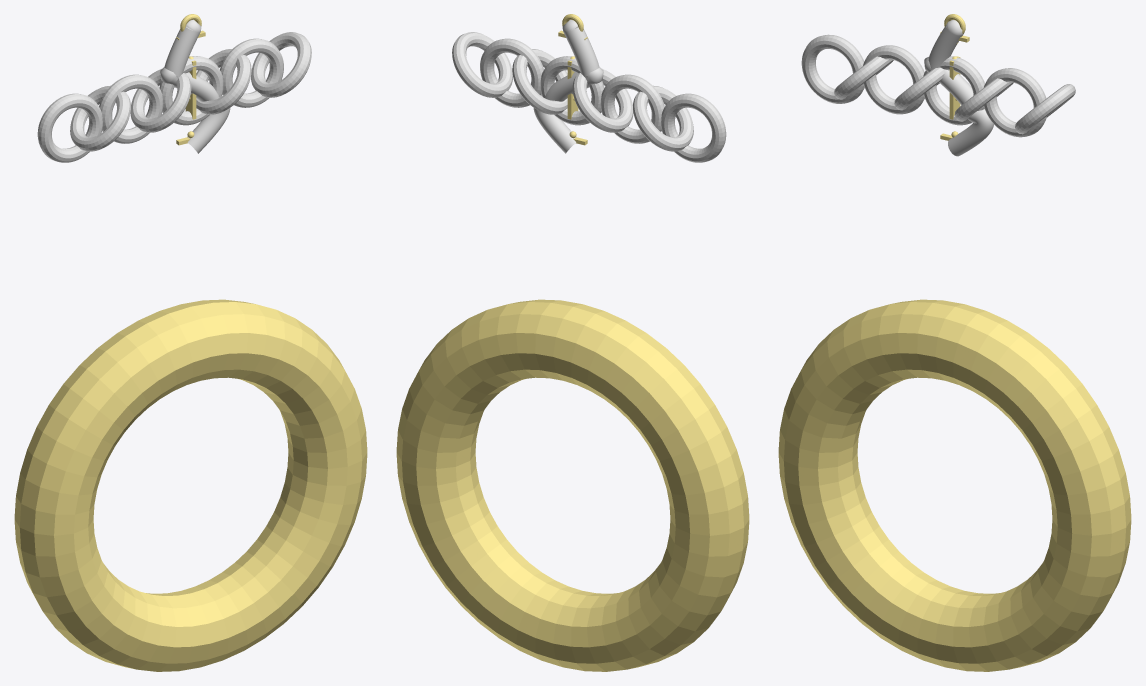
Rendered from ring_export.glb.
3 views of the same model, side by side, from view 1: azimuth 30°, elevation 25°; view 2: azimuth 150°, elevation 25°; view 3: azimuth 330°, elevation 25° (orthographic).
Visible parts, largest first — view 1: GoldRing, DollarSign_S, CurbChainLink_00, CurbChainLink_07, CurbChainLink_02, CurbChainLink_06, CurbChainLink_01, CurbChainLink_03, CurbChainLink_05, CurbChainLink_04, DollarSignPendant; view 2: GoldRing, DollarSign_S, CurbChainLink_00, CurbChainLink_07, CurbChainLink_02, CurbChainLink_06, CurbChainLink_01, CurbChainLink_03, CurbChainLink_05, CurbChainLink_04, DollarSignPendant; view 3: GoldRing, DollarSign_S, CurbChainLink_00, CurbChainLink_02, CurbChainLink_06, CurbChainLink_04, CurbChainLink_07, CurbChainLink_01, CurbChainLink_05, CurbChainLink_03, DollarSignPendant.
Part boxes in pixels (x1,y1,x2,y2): GoldRing: [14, 299, 367, 671]; DollarSign_S: [160, 19, 230, 153]; CurbChainLink_00: [37, 93, 102, 162]; CurbChainLink_07: [251, 32, 311, 97]; CurbChainLink_02: [99, 74, 163, 143]; CurbChainLink_06: [220, 38, 283, 107]; CurbChainLink_01: [70, 85, 130, 151]; CurbChainLink_03: [130, 69, 191, 132]; CurbChainLink_05: [196, 49, 251, 114]; CurbChainLink_04: [159, 56, 223, 125]; DollarSignPendant: [176, 14, 205, 145]; GoldRing: [396, 299, 749, 671]; DollarSign_S: [533, 19, 603, 153]; CurbChainLink_00: [661, 93, 726, 162]; CurbChainLink_07: [452, 32, 512, 97]; CurbChainLink_02: [600, 74, 664, 143]; CurbChainLink_06: [480, 38, 543, 107]; CurbChainLink_01: [633, 85, 693, 151]; CurbChainLink_03: [572, 69, 633, 132]; CurbChainLink_05: [512, 49, 567, 114]; CurbChainLink_04: [540, 56, 604, 125]; DollarSignPendant: [558, 14, 587, 145]; GoldRing: [778, 299, 1131, 671]; DollarSign_S: [924, 20, 993, 156]; CurbChainLink_00: [801, 34, 864, 103]; CurbChainLink_02: [863, 45, 924, 114]; CurbChainLink_06: [984, 68, 1046, 137]; CurbChainLink_04: [923, 56, 985, 125]; CurbChainLink_07: [1015, 84, 1075, 134]; CurbChainLink_01: [834, 56, 893, 99]; CurbChainLink_05: [954, 78, 1013, 121]; CurbChainLink_03: [894, 67, 944, 110]; DollarSignPendant: [940, 14, 969, 140].
Size of the model in its own units: 2 by 3.63 by 0.4.
